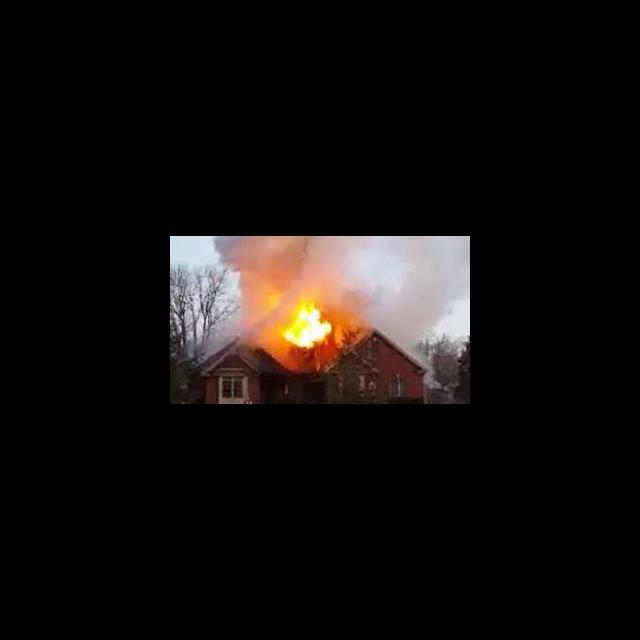Fire: (282, 300, 336, 351)
Smoke: (344, 236, 468, 319), (212, 237, 344, 294)
